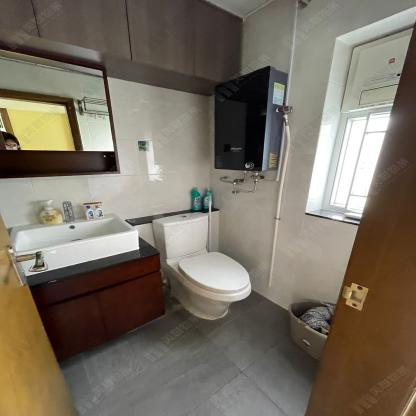Thermo Ventilator: (340, 26, 414, 112)
Toilet: (152, 211, 251, 319)
Water Cubicle: (9, 212, 139, 277)
Water Heater: (212, 65, 287, 173)
